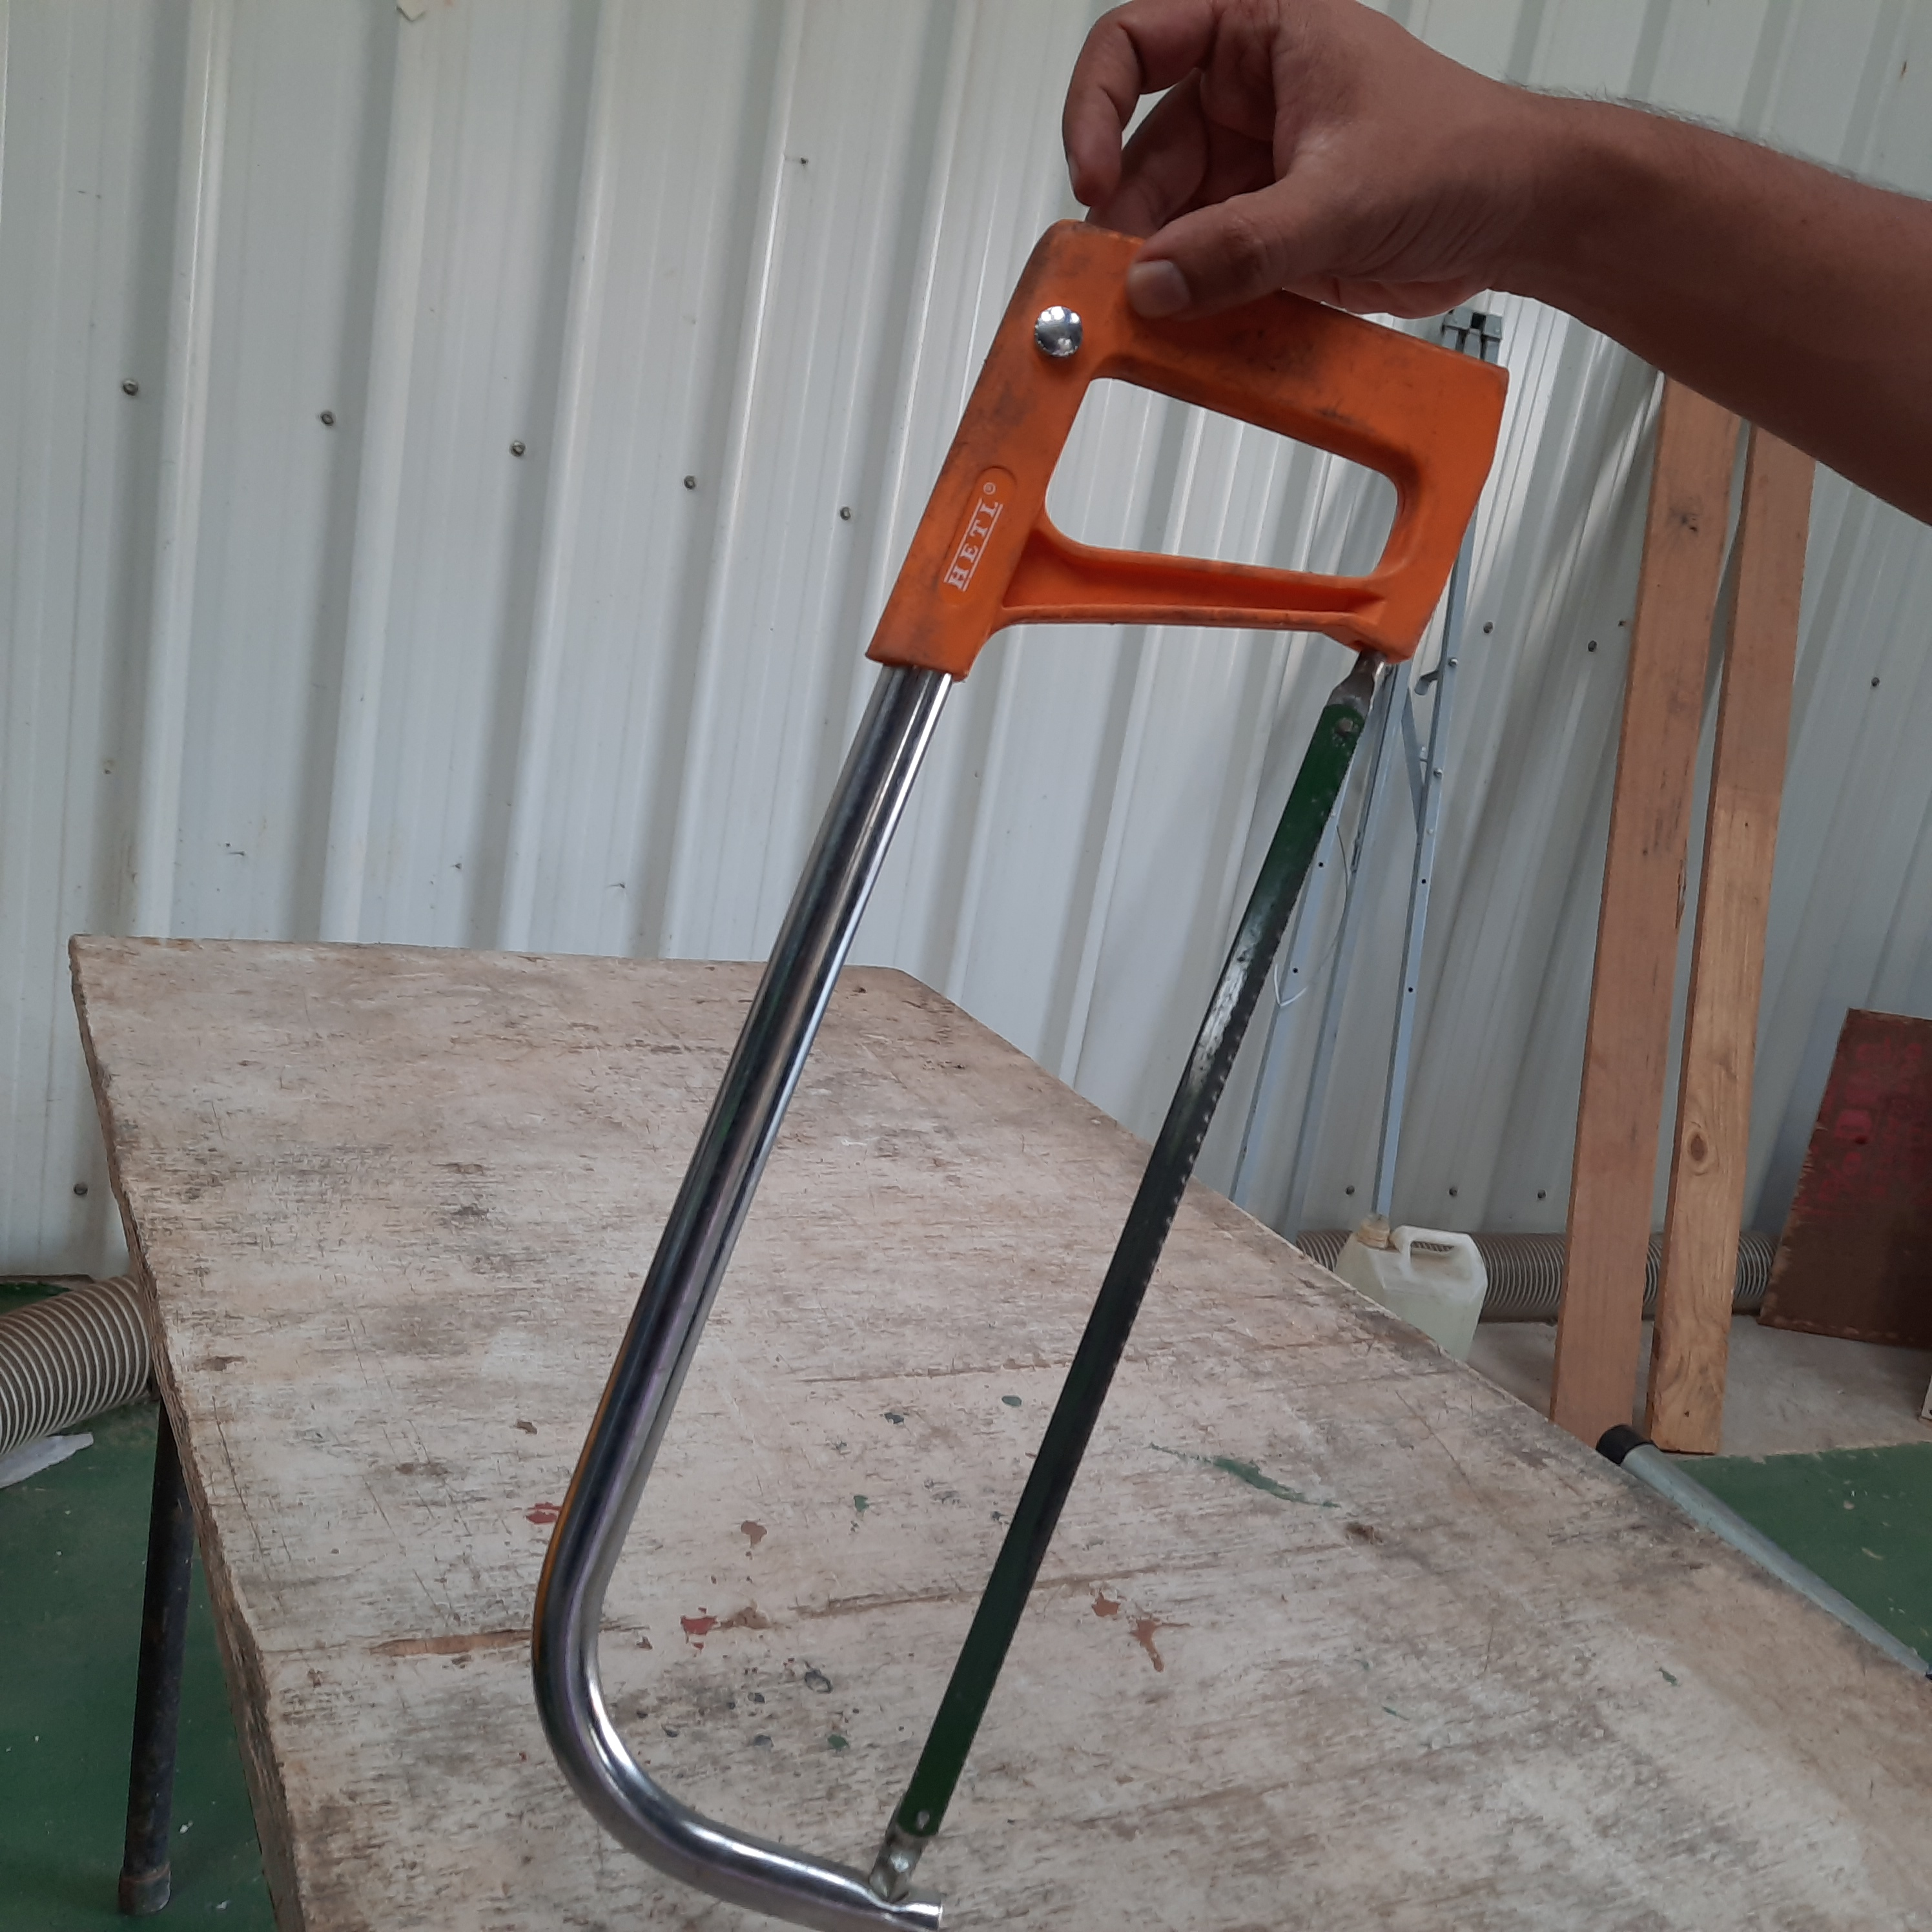Hexaframe: (492, 193, 1534, 1932)
